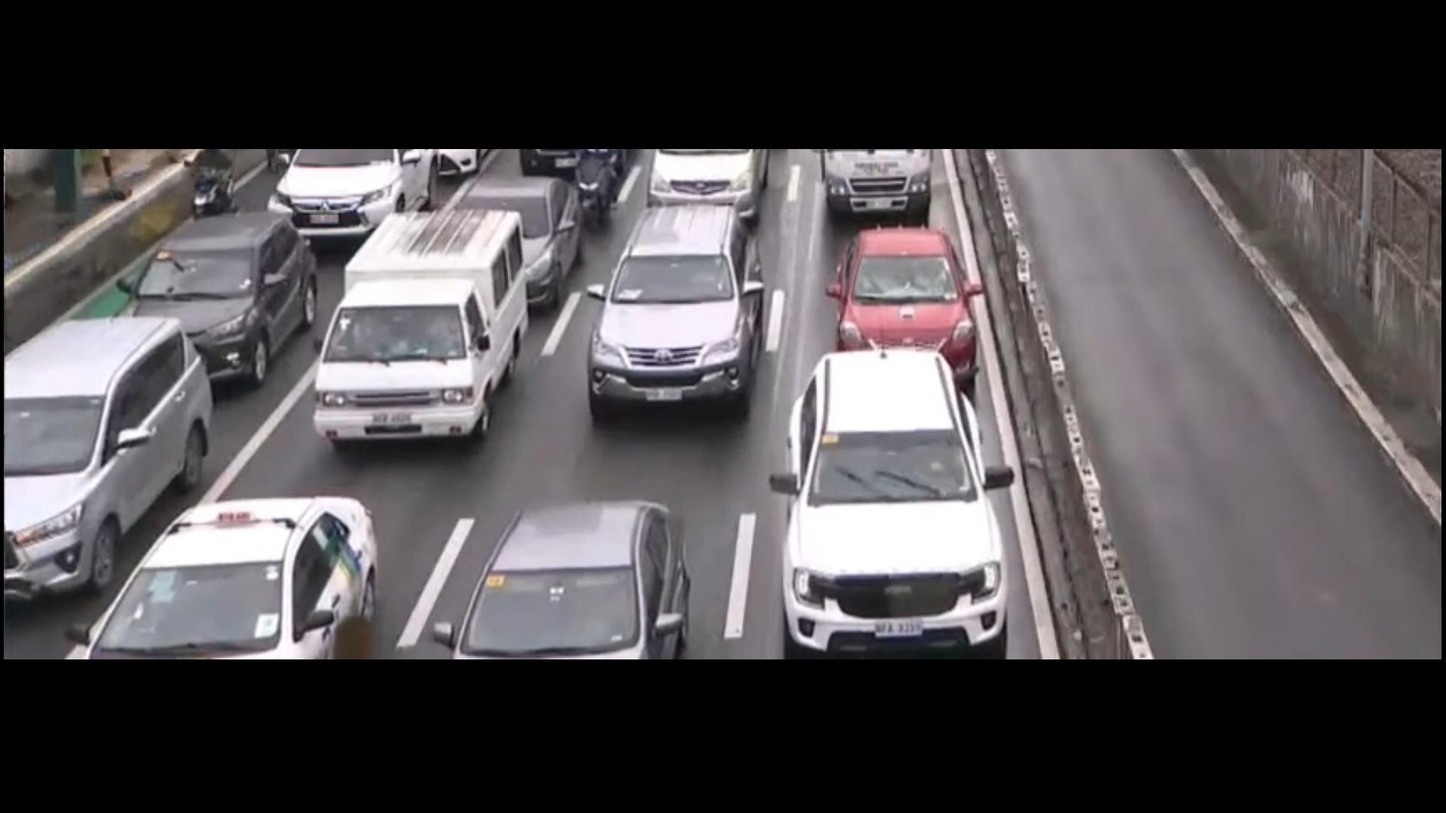Motorcycle: (179, 148, 243, 217), (570, 151, 625, 221)
Multicab: (313, 210, 529, 444)
SUV: (785, 348, 1006, 655), (6, 315, 212, 608), (584, 206, 774, 422), (266, 151, 437, 233)
Sedan: (78, 492, 380, 661), (437, 495, 691, 661), (104, 218, 321, 394), (831, 229, 984, 393), (448, 177, 584, 310)
